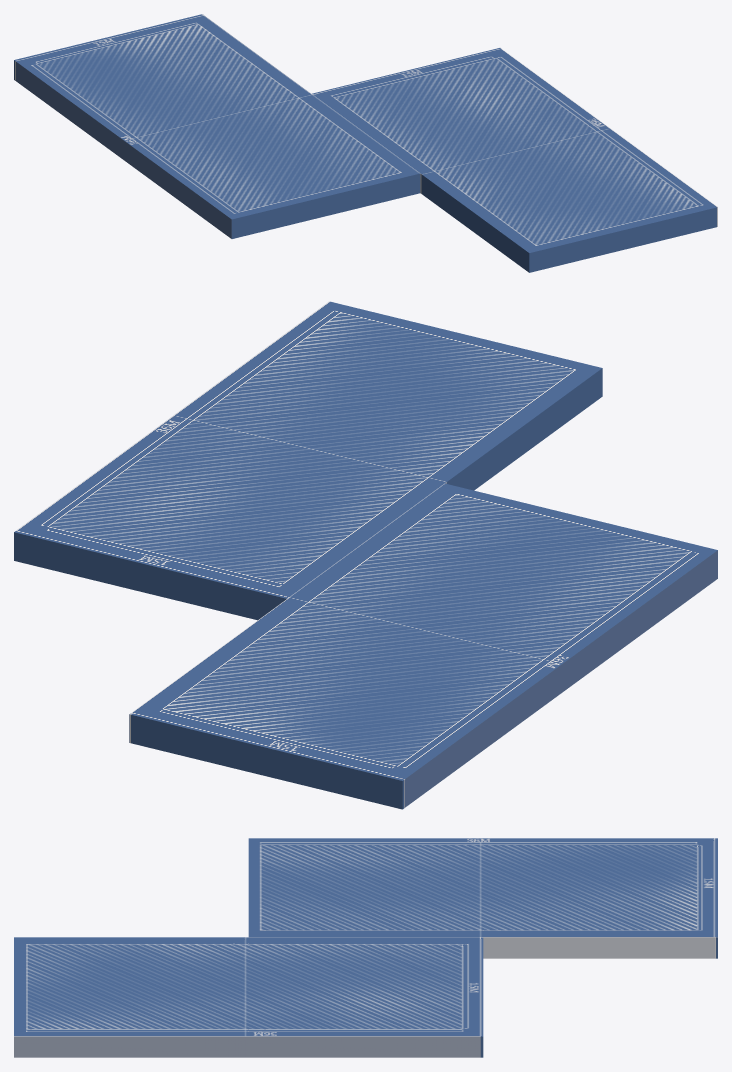
The model's file is loading_block_4.fbx.
The picture shows the model from 3 angles, top to bottom: view 1: azimuth 30°, elevation 25°; view 2: azimuth 150°, elevation 25°; view 3: azimuth 270°, elevation 25°; orthographic projection. The views are drawn at different scales.
Parts seen in each view (by area): view 1: block_4; view 2: block_4; view 3: block_4.
Boxes of the visible parts, bbox=[...] form: block_4: bbox=[14, 14, 717, 272]; block_4: bbox=[14, 301, 717, 809]; block_4: bbox=[14, 838, 717, 1057].
Size of the model in its own units: 200 by 10 by 300.
